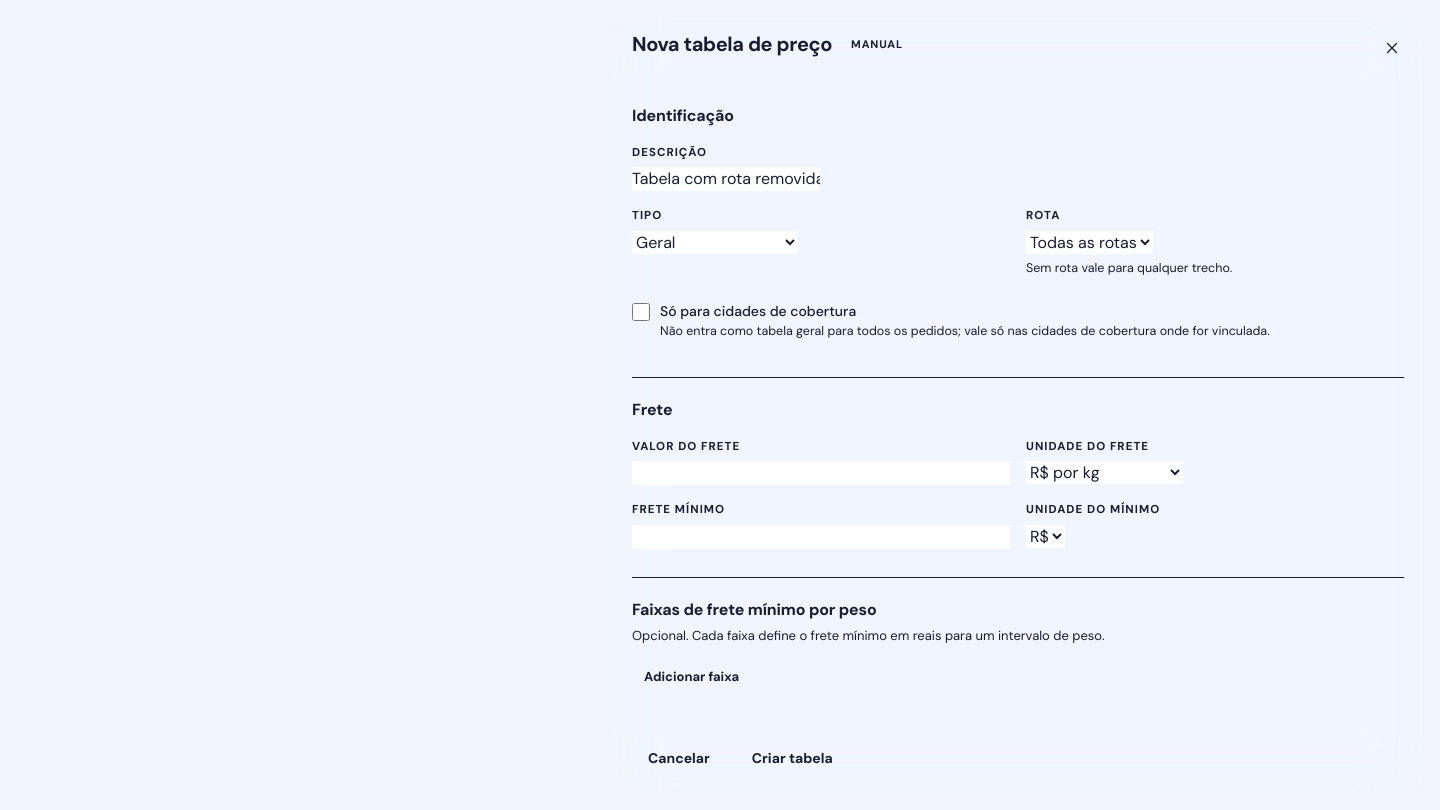
Test: Comercial: criar e editar dentro da V2 › mostra o erro HTTP da API no rodapé e mantém a tabela aberta
The image size is (1440, 810).
Click the button "Criar tabela".
click(792, 758)  # box [736, 738, 849, 778]
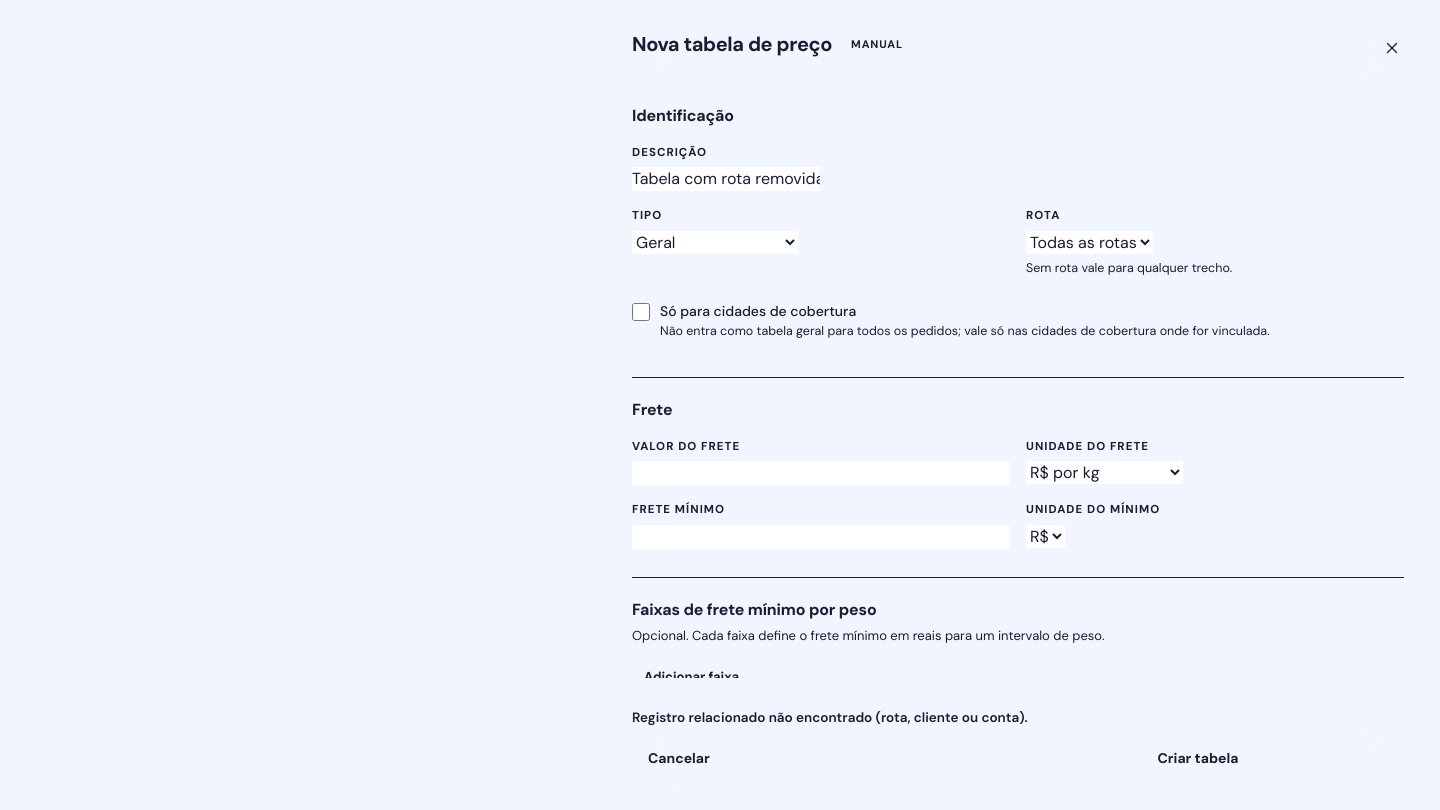
Now the message reads "Registro relacionado não encontrado (rota, cliente ou conta).", box [632, 709, 1028, 726]
